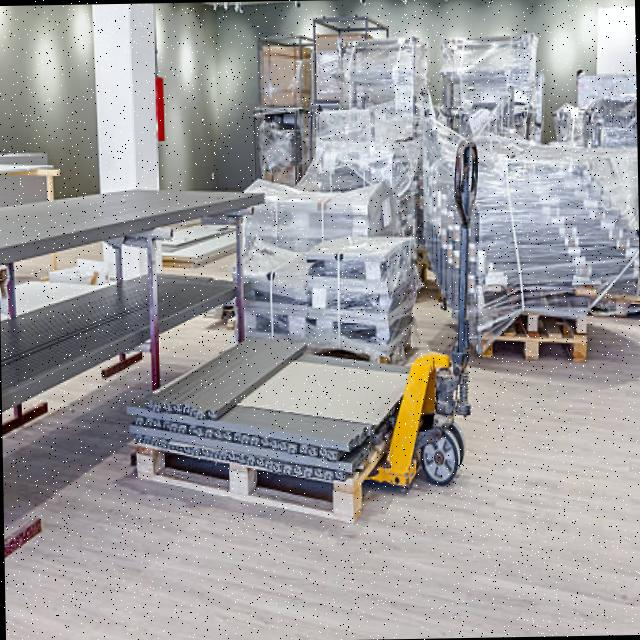Wooden-Pallets: (128, 441, 358, 531), (472, 334, 588, 366)
